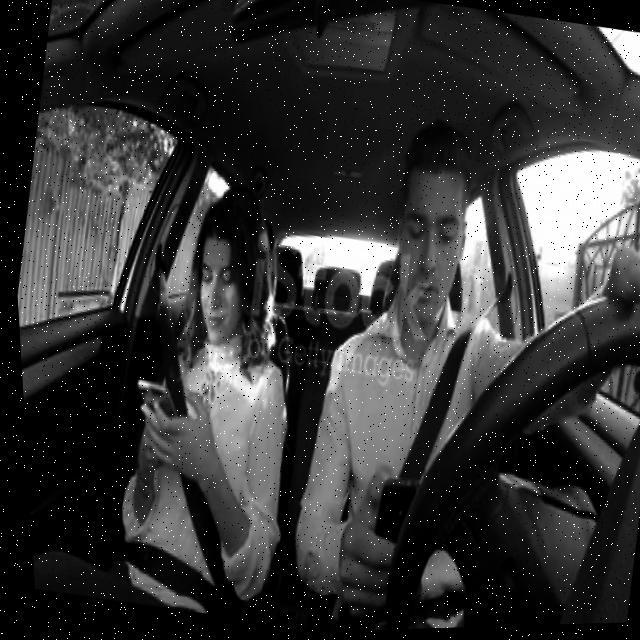PhoneCall: (359, 471, 422, 577), (117, 374, 177, 438)
